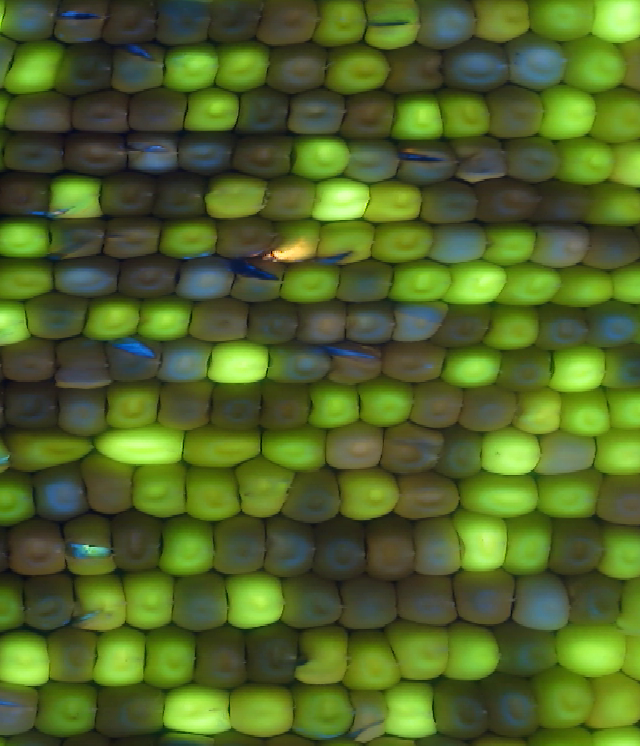fluorescent: (552, 619, 627, 678), (386, 614, 447, 682), (289, 680, 357, 740), (32, 677, 101, 735), (528, 669, 596, 727), (70, 571, 132, 634), (293, 624, 353, 689), (225, 681, 296, 735), (455, 473, 544, 516), (179, 423, 268, 466), (95, 422, 186, 464), (162, 682, 235, 734), (343, 625, 404, 687), (221, 569, 286, 627), (232, 461, 294, 521), (450, 510, 508, 574), (562, 36, 627, 92), (382, 680, 442, 740), (130, 460, 192, 518), (121, 569, 177, 632), (258, 422, 333, 469), (334, 467, 401, 519), (184, 462, 244, 520), (146, 624, 200, 688), (552, 382, 613, 438), (324, 43, 392, 93), (93, 627, 150, 686), (537, 83, 596, 140), (444, 622, 500, 682), (15, 428, 94, 470), (477, 427, 546, 475), (205, 171, 271, 221), (479, 302, 544, 352), (550, 135, 617, 183), (0, 627, 55, 685), (537, 473, 603, 521), (44, 169, 106, 220), (5, 39, 63, 93), (204, 339, 272, 385), (437, 343, 504, 389), (354, 380, 419, 427), (159, 519, 213, 575), (501, 262, 565, 309), (157, 215, 222, 261), (504, 514, 553, 575), (215, 39, 271, 92), (389, 90, 447, 141), (435, 89, 495, 138), (290, 131, 351, 179), (449, 256, 507, 306), (547, 346, 611, 391), (180, 85, 240, 133), (591, 671, 640, 729), (162, 41, 218, 91), (555, 265, 617, 310), (528, 1, 594, 43), (479, 222, 542, 266), (387, 261, 456, 301), (371, 221, 436, 263), (315, 220, 377, 264), (83, 292, 141, 338), (279, 260, 341, 303), (103, 383, 162, 428), (360, 1, 416, 48), (272, 216, 322, 268), (593, 88, 640, 143), (311, 176, 369, 220), (584, 182, 640, 227), (140, 295, 197, 339), (305, 384, 363, 427), (588, 1, 640, 47), (364, 179, 419, 222), (471, 1, 530, 41), (591, 426, 640, 473), (0, 254, 49, 301), (0, 212, 47, 260), (599, 525, 640, 580), (314, 1, 366, 44), (517, 388, 561, 436), (0, 474, 37, 524), (605, 381, 640, 430), (0, 297, 32, 345), (607, 140, 640, 186), (525, 725, 597, 746), (590, 726, 640, 745)
nonfluorescent: (438, 36, 513, 92), (482, 670, 541, 738), (393, 571, 462, 629), (208, 512, 273, 573), (310, 514, 370, 580), (450, 567, 518, 625), (491, 619, 559, 677), (359, 514, 419, 579), (243, 620, 300, 688), (77, 451, 138, 514), (192, 627, 253, 690), (92, 685, 168, 735), (547, 512, 606, 576), (280, 571, 345, 629), (6, 517, 69, 576), (170, 574, 234, 632), (428, 678, 489, 738), (281, 466, 344, 524), (509, 571, 572, 629), (336, 574, 399, 632), (64, 510, 119, 575), (24, 291, 94, 342), (53, 335, 114, 393), (563, 569, 624, 627), (378, 423, 446, 475), (101, 333, 166, 387), (389, 470, 459, 520), (394, 135, 461, 187), (30, 464, 90, 522), (125, 82, 193, 133), (22, 569, 77, 632), (323, 419, 389, 471), (234, 83, 295, 139), (483, 82, 545, 137), (50, 254, 124, 300), (44, 625, 101, 684), (68, 88, 139, 135), (62, 132, 134, 178), (262, 518, 319, 576), (410, 518, 467, 576), (109, 41, 170, 95), (265, 42, 328, 94), (230, 134, 301, 180), (379, 338, 447, 386), (500, 131, 562, 183), (110, 507, 162, 569), (474, 177, 542, 224), (54, 42, 115, 94), (332, 257, 398, 305), (116, 251, 180, 300), (55, 384, 111, 440), (408, 379, 466, 433), (0, 89, 76, 130), (0, 336, 64, 384), (415, 1, 479, 49), (155, 382, 215, 433), (285, 87, 347, 136), (338, 87, 395, 140), (535, 177, 594, 228), (493, 348, 559, 393), (531, 432, 600, 475), (212, 216, 279, 260), (263, 341, 333, 383), (420, 177, 481, 225), (3, 132, 68, 177), (187, 296, 252, 341), (149, 1, 217, 44), (534, 300, 592, 350), (2, 379, 61, 428), (102, 214, 162, 262), (343, 138, 404, 185), (440, 299, 495, 351), (294, 297, 350, 348), (150, 174, 213, 219), (256, 1, 316, 48), (260, 173, 320, 220), (97, 171, 158, 217), (325, 341, 386, 387), (259, 379, 315, 429), (384, 46, 442, 94), (450, 135, 508, 183), (124, 132, 184, 178), (97, 1, 161, 44), (177, 130, 236, 176), (390, 298, 450, 343), (246, 298, 300, 348), (48, 218, 109, 262), (202, 1, 260, 47), (212, 382, 264, 433), (160, 336, 215, 384), (583, 223, 640, 269), (230, 256, 287, 302), (530, 222, 589, 266), (593, 471, 640, 526), (342, 298, 398, 344), (462, 387, 518, 433), (585, 302, 640, 348), (0, 171, 53, 218), (53, 1, 109, 44), (0, 1, 60, 41), (0, 677, 39, 735), (431, 222, 487, 262), (438, 430, 486, 476), (597, 343, 640, 393), (9, 732, 61, 746), (469, 734, 530, 745), (66, 733, 117, 746), (113, 730, 157, 745), (416, 736, 473, 746)
